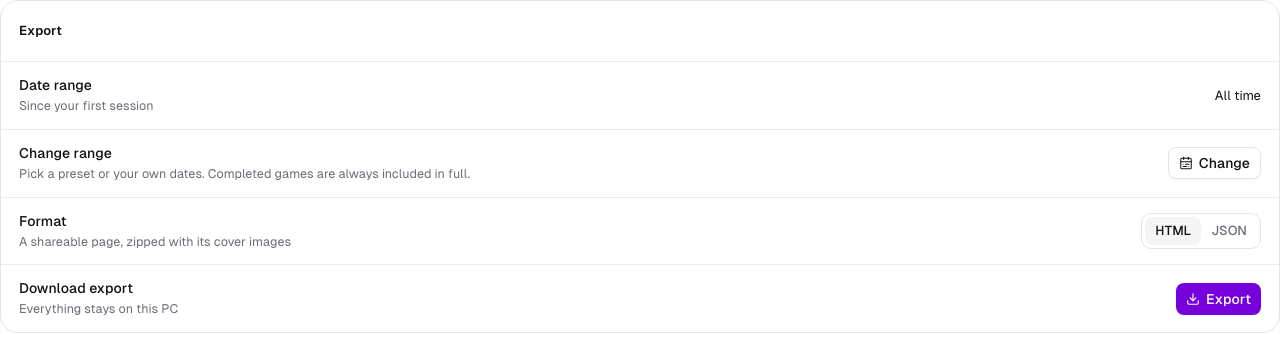
it: v1 Export stats settings › defaults to all time as a zipped HTML page
The width and height of the screenshot is (1280, 350).
Expected: the text with test id "stats-export-range-value" reads "All time", x1=1215 y1=88 x2=1261 y2=103
Click the button with test id "stats-export-download" at (1218, 299), box x1=1176 y1=283 x2=1261 y2=315
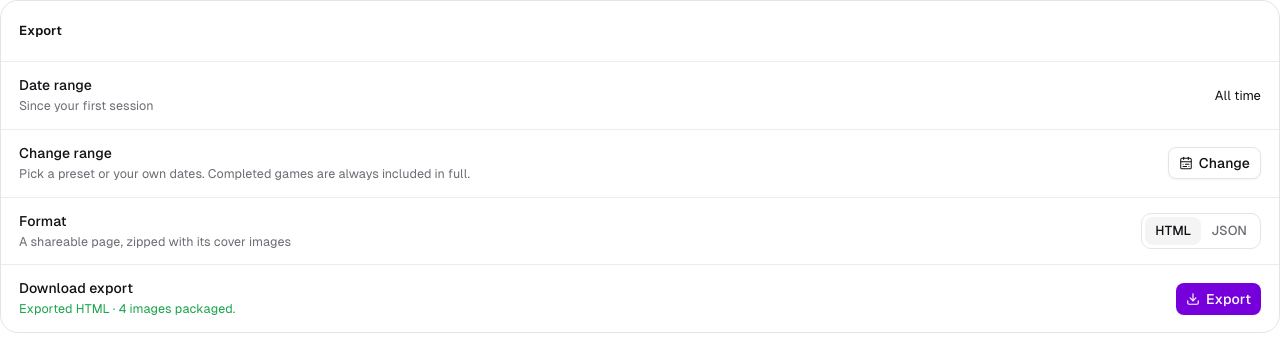
Now the message with test id "stats-export-status" reads "Exported HTML · 4 images packaged.", box x1=19 y1=301 x2=235 y2=316
